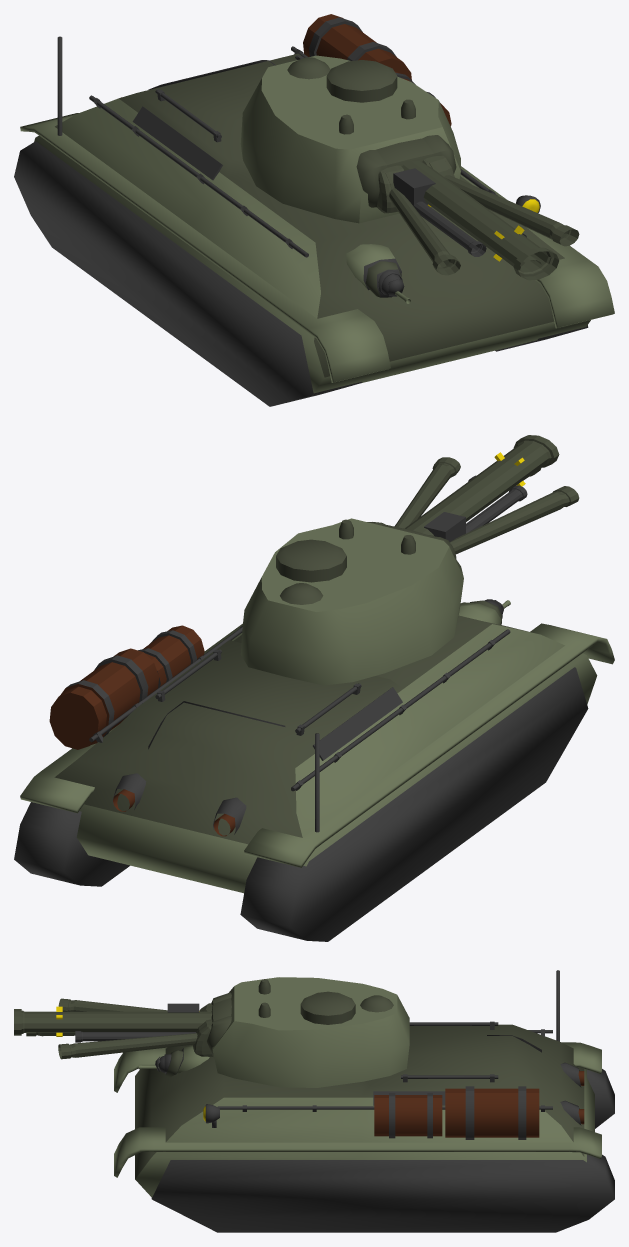
File: Tank3.fbx
3 renders of one model, top to bottom at view 1: azimuth 30°, elevation 25°; view 2: azimuth 150°, elevation 25°; view 3: azimuth 270°, elevation 25°, orthographic. The views are drawn at different scales.
Parts seen in each view (by area): view 1: Tank Body, Turret, Big Turret, Shotgun Turret, Burst Fire, Railgun Turret; view 2: Tank Body, Turret, Big Turret, Shotgun Turret, Railgun Turret, Burst Fire; view 3: Tank Body, Turret, Big Turret, Shotgun Turret, Burst Fire, Railgun Turret.
Boxes of the visible parts, x1,y1,x2,y2 form: Tank Body: (14,14,614,406); Turret: (240,55,460,223); Big Turret: (402,161,559,280); Shotgun Turret: (377,155,579,275); Burst Fire: (384,156,526,256); Railgun Turret: (393,168,524,261); Tank Body: (14,599,614,941); Turret: (240,518,463,685); Big Turret: (405,435,559,535); Shotgun Turret: (393,457,579,558); Railgun Turret: (424,452,525,541); Burst Fire: (387,475,527,533); Tank Body: (114,970,614,1232); Turret: (207,977,409,1087); Big Turret: (14,1009,211,1035); Shotgun Turret: (26,998,212,1059); Burst Fire: (75,1004,212,1051); Railgun Turret: (56,1003,199,1036).
Size of the model in its own units: 326 by 258 by 743.
